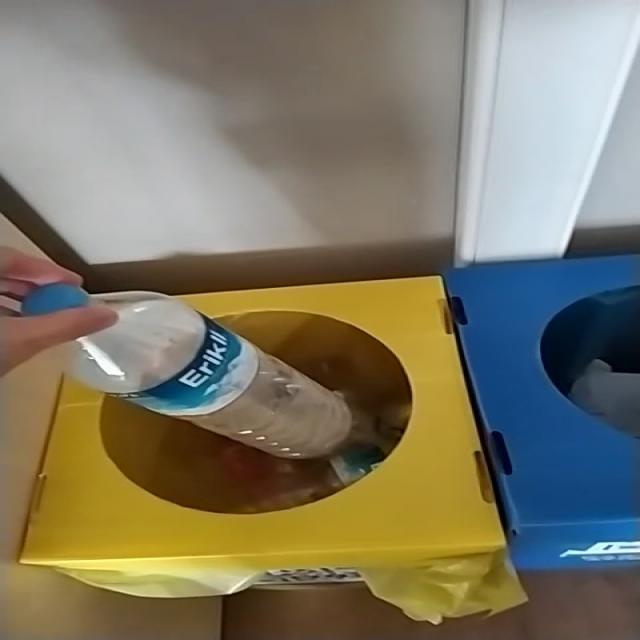plastic: (21, 284, 353, 459)
